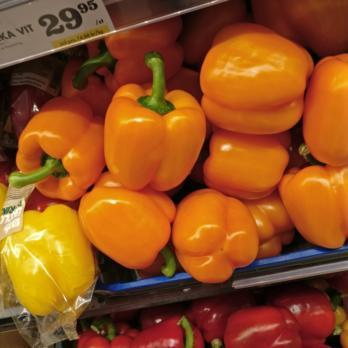Capsicum: (0, 80, 199, 309), (194, 13, 348, 241), (171, 295, 335, 342)
